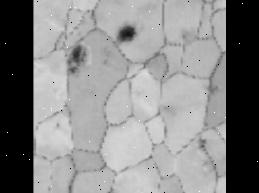good_void: (66, 44, 86, 76), (114, 26, 136, 44), (208, 80, 221, 102), (52, 117, 65, 133), (198, 137, 211, 153), (102, 185, 121, 193), (178, 32, 190, 39), (101, 57, 109, 67)
